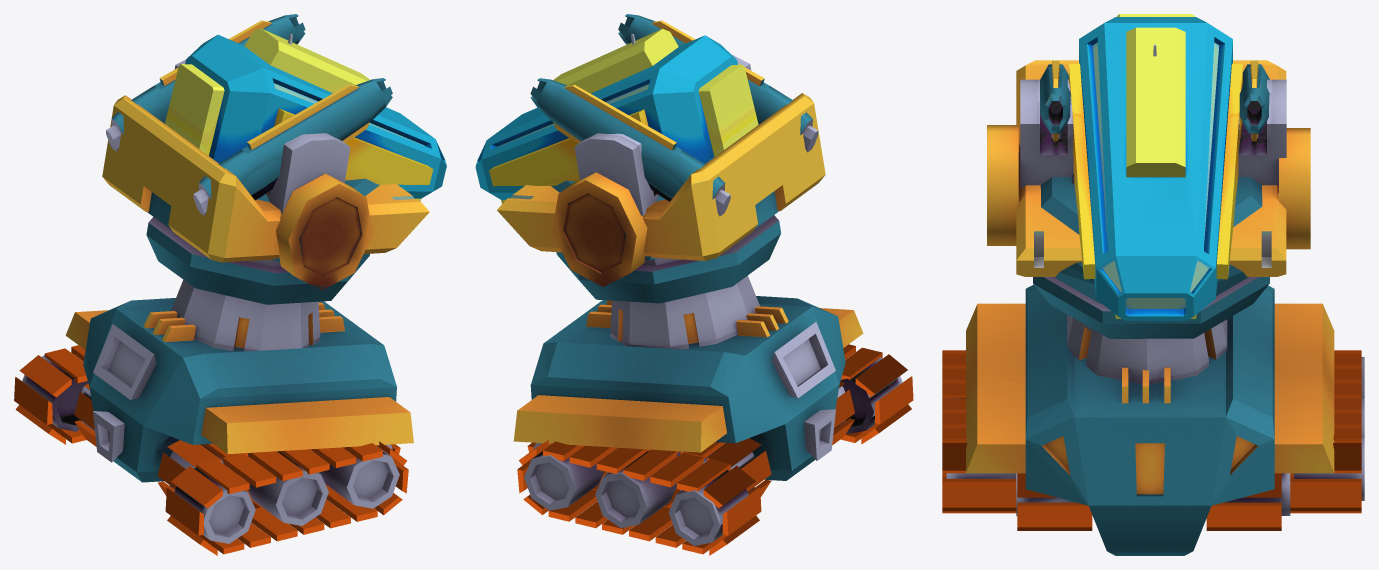
The model's file is Player_move_2_Upgrade11.obj.
The picture shows the model from 3 angles, left to right: view 1: azimuth 30°, elevation 25°; view 2: azimuth 150°, elevation 25°; view 3: azimuth 270°, elevation 25°; orthographic projection. The views are drawn at different scales.
Visible parts, largest first — view 1: Object015, Box020, Object014, Box018, Box019, Box017, Box016; view 2: Object015, Box019, Box018, Object014, Box020, Box016, Box017; view 3: Object015, Box019, Box020, Object014, Box017, Box016, Box018, Box009.
Part boxes in pixels (x1,y1,x2,y2): Object015: [65, 28, 446, 482]; Box020: [165, 441, 408, 555]; Object014: [106, 14, 392, 215]; Box018: [22, 355, 399, 543]; Box019: [14, 345, 87, 444]; Box017: [157, 440, 400, 508]; Box016: [74, 383, 96, 446]; Object015: [475, 29, 863, 480]; Box019: [517, 440, 761, 555]; Box018: [524, 357, 902, 545]; Object014: [530, 14, 818, 216]; Box020: [841, 344, 913, 444]; Box016: [527, 438, 771, 507]; Box017: [832, 381, 854, 444]; Object015: [966, 14, 1334, 555]; Box019: [1290, 350, 1361, 513]; Box020: [942, 350, 1016, 513]; Object014: [1040, 60, 1269, 141]; Box017: [1017, 473, 1092, 530]; Box016: [1206, 473, 1281, 530]; Box018: [946, 357, 1364, 500]; Box009: [1016, 473, 1290, 516].
Size of the model in its own units: 70.38 by 88.9 by 68.55.
6 materials, 4 textured.
